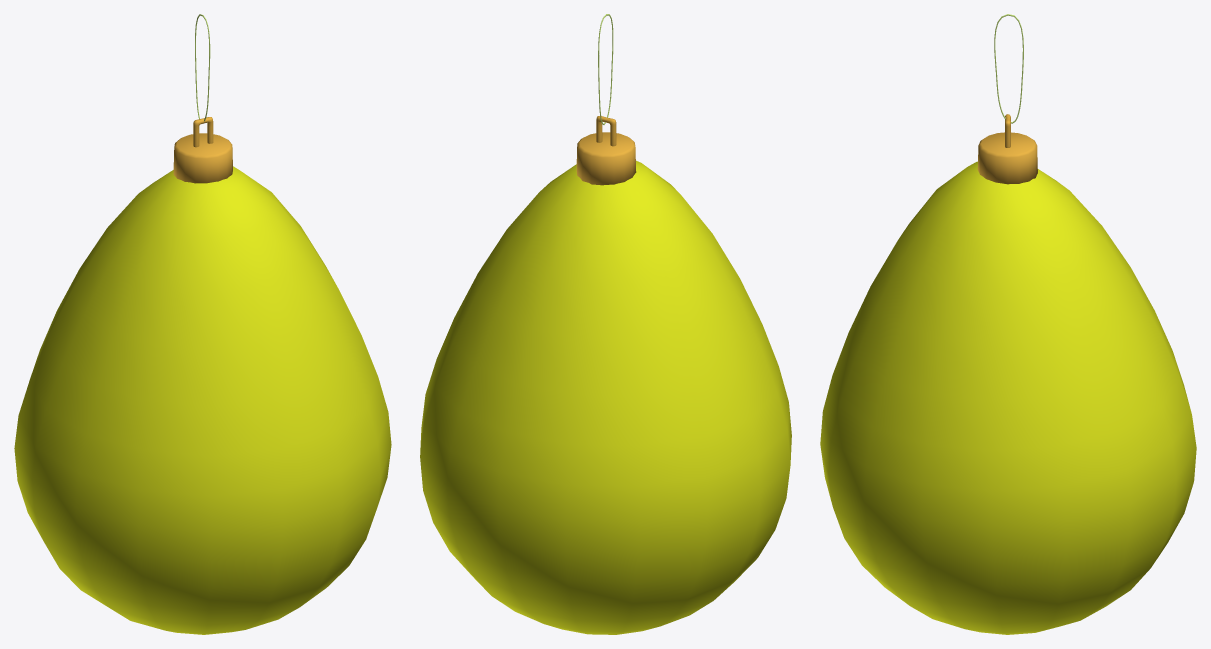
File: baloon.fbx
3 renders of one model, left to right at view 1: azimuth 30°, elevation 25°; view 2: azimuth 150°, elevation 25°; view 3: azimuth 270°, elevation 25°, orthographic.
Parts seen in each view (by area): view 1: baloon.002, baloon.003; view 2: baloon.002, baloon.003; view 3: baloon.002, baloon.003.
Boxes of the visible parts, box(x1,y1,x2,y2) form: baloon.002: box(14, 166, 391, 634); baloon.003: box(173, 117, 232, 183); baloon.002: box(420, 160, 791, 634); baloon.003: box(576, 116, 636, 185); baloon.002: box(820, 161, 1196, 634); baloon.003: box(977, 114, 1037, 184).
Bounding box in the file's own units: 0.2781 × 0.4916 × 0.278.
